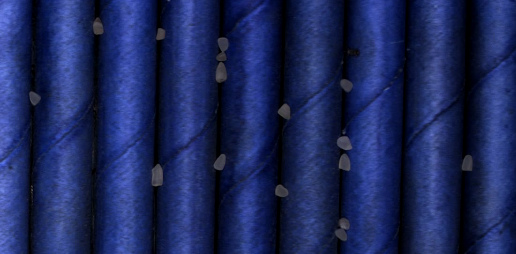broken_grain: (213, 61, 229, 86), (337, 152, 354, 173), (276, 102, 293, 122), (334, 135, 354, 152), (460, 152, 474, 175), (272, 183, 291, 199), (212, 152, 227, 172), (26, 89, 42, 107), (216, 34, 229, 53), (338, 78, 353, 93), (334, 228, 349, 243), (337, 216, 351, 231), (154, 26, 166, 41)
milky_broken_grain: (149, 162, 165, 192)
yellow_grain: (90, 16, 106, 39), (215, 51, 228, 62)
